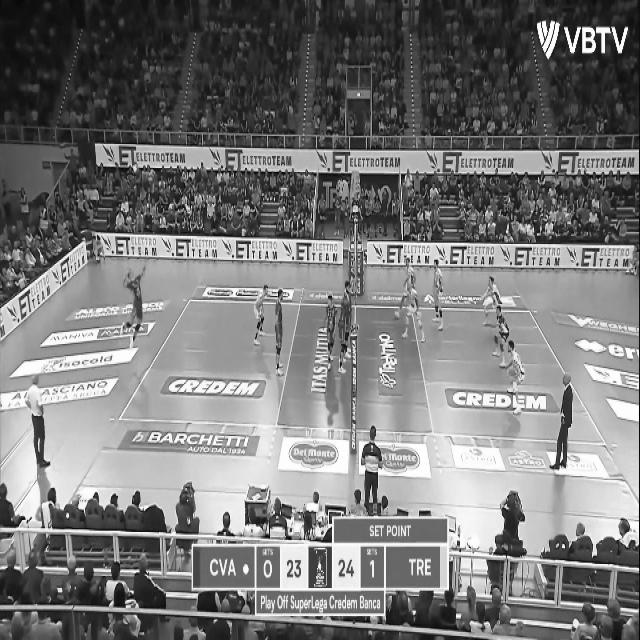volleyball court: (118, 295, 607, 444)
